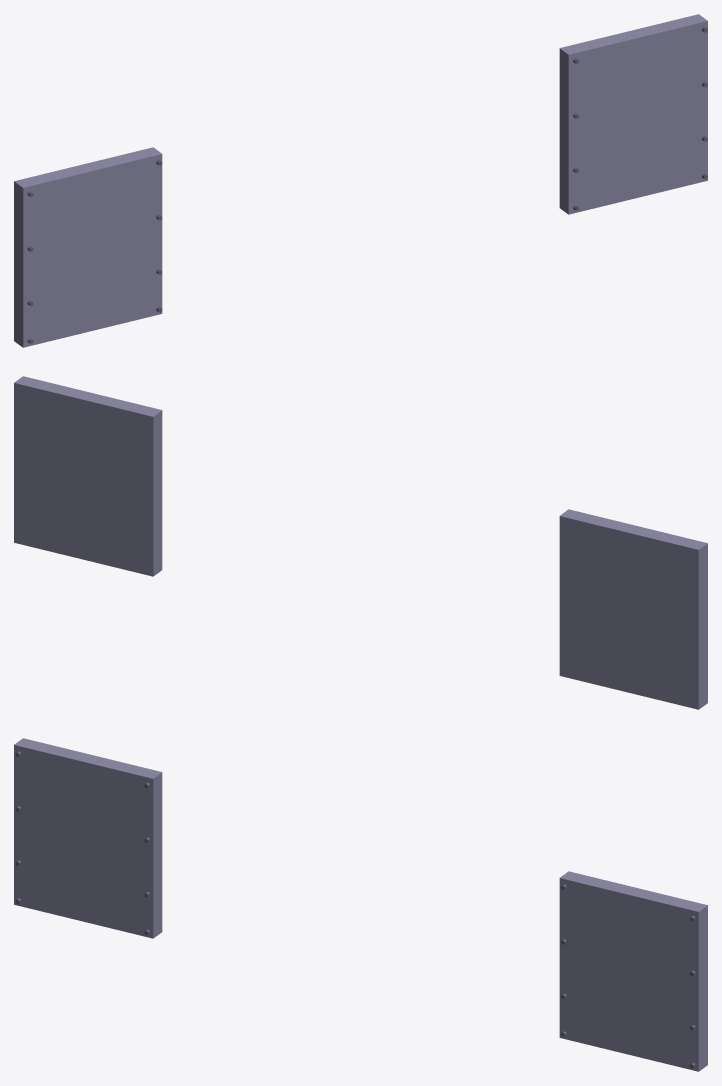
File: Observatory_Interior_Metal Tiled Center Wall_01.fbx
3 renders of one model, top to bottom at view 1: azimuth 30°, elevation 25°; view 2: azimuth 150°, elevation 25°; view 3: azimuth 330°, elevation 25°, orthographic.
Visible parts, largest first — view 1: center_wall; view 2: center_wall; view 3: center_wall.
Part boxes in pixels (x1,y1,x2,y2): center_wall: (14,14,707,347); center_wall: (14,376,707,709); center_wall: (14,738,707,1071).
Bounding box in the file's own units: 2498 × 557 × 73.88.
